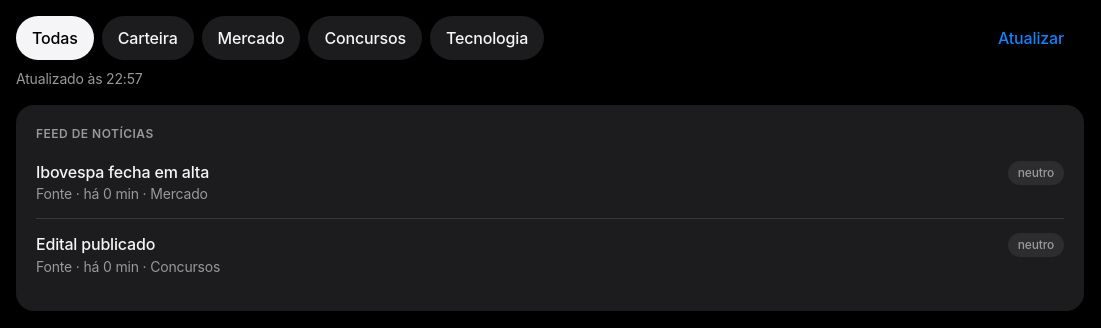
Test: filtro por tema mostra só as notícias daquele tema
Check: the text "Ibovespa fecha em alta" is shown, box [36, 161, 209, 183]
What coordinates should you click on to do the following:
click the button "Concursos"
I would click on:
 (365, 38)
Its box is [308, 16, 422, 60].
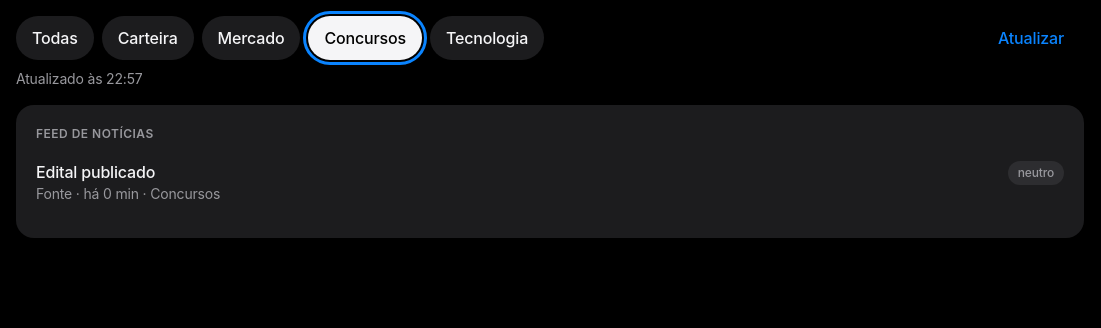
Check: the text "Edital publicado" is shown, box [36, 162, 155, 182]
Check: the text "Ibovespa fecha em alta" is gone
